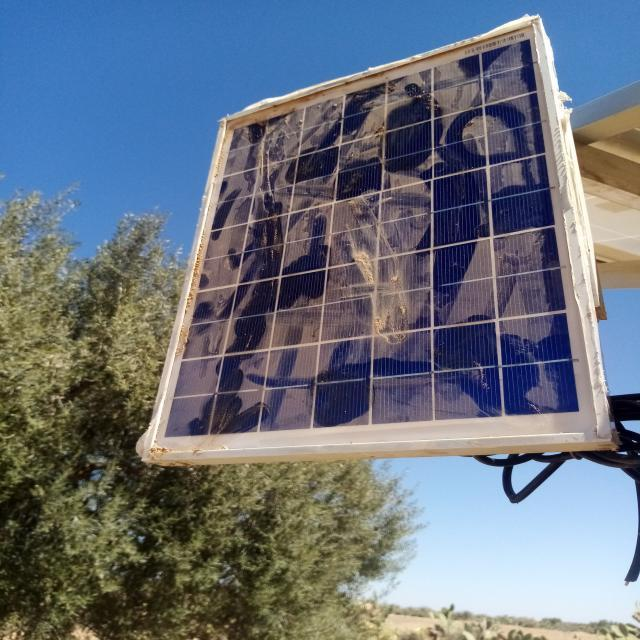faulty: (148, 20, 607, 456)
